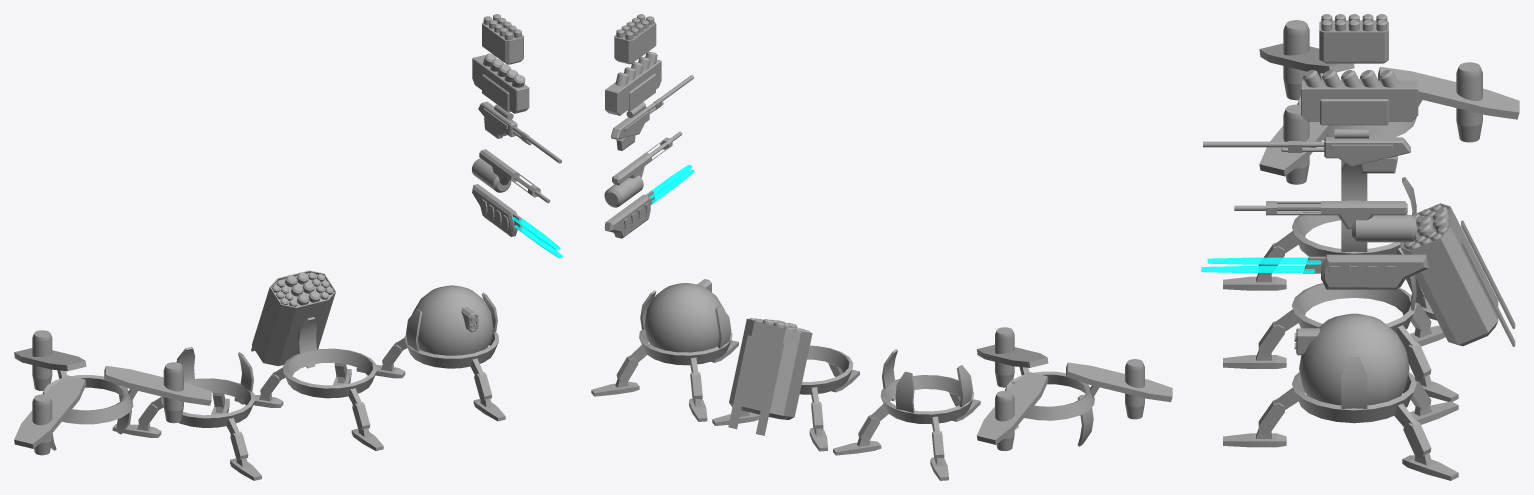
File: Tripod drone.fbx
3 renders of one model, left to right at view 1: azimuth 30°, elevation 25°; view 2: azimuth 150°, elevation 25°; view 3: azimuth 270°, elevation 25°, orthographic. The views are drawn at different scales.
Parts seen in each view (by area): view 1: pCube36 (×3), pSphere1, pCube29, pCylinder6, pCylinder66, pCylinder68, pCylinder5 (×2), pCylinder1, pCube33, pCube35, pCylinder69, pCylinder70 (+5 smaller); view 2: pCube29, pCube36 (×3), pSphere1, pCylinder66, pCylinder5 (×2), pCylinder68, pCylinder6, pCylinder1, pCube33, pCube35, pCylinder71, pCube32 (+6 smaller); view 3: pSphere1, pCube29, pCube36 (×3), pCube33, pCube11, pCylinder5 (×2), pCube1 (×3), pCube35, pCylinder6, pCylinder1, pCube34, pCylinder70 (+22 smaller).
Part boxes in pixels (x1,y1,x2,y2): pCube36 (×3): [14, 348, 211, 448]; pSphere1: [412, 285, 493, 368]; pCube29: [252, 270, 335, 366]; pCylinder6: [283, 348, 377, 398]; pCylinder66: [161, 378, 255, 427]; pCylinder68: [42, 375, 133, 424]; pCylinder5 (×2): [298, 292, 497, 368]; pCylinder1: [405, 332, 498, 368]; pCube33: [472, 55, 529, 113]; pCube35: [482, 19, 523, 64]; pCylinder69: [163, 362, 183, 423]; pCylinder70: [32, 330, 52, 390]; pCube29: [729, 318, 812, 419]; pCube36 (×3): [976, 344, 1172, 444]; pSphere1: [644, 283, 725, 365]; pCylinder66: [880, 375, 973, 424]; pCylinder5 (×2): [640, 290, 972, 407]; pCylinder68: [1005, 371, 1094, 420]; pCylinder6: [799, 345, 853, 394]; pCylinder1: [639, 329, 732, 365]; pCube33: [605, 59, 661, 115]; pCube35: [614, 19, 656, 64]; pCylinder71: [1125, 359, 1144, 419]; pCube32: [728, 335, 756, 429]; pSphere1: [1299, 313, 1409, 423]; pCube29: [1400, 203, 1498, 346]; pCube36 (×3): [1259, 43, 1519, 176]; pCube33: [1301, 80, 1418, 121]; pCube11: [1321, 254, 1428, 289]; pCylinder5 (×2): [1341, 163, 1367, 408]; pCube1 (×3): [1223, 273, 1286, 447]; pCube35: [1319, 20, 1388, 63]; pCylinder6: [1292, 283, 1416, 331]; pCylinder1: [1292, 372, 1416, 422]; pCube34: [1320, 99, 1388, 125]; pCylinder70: [1456, 62, 1482, 142].
Size of the model in its own units: 60.29 by 38.14 by 24.03.
